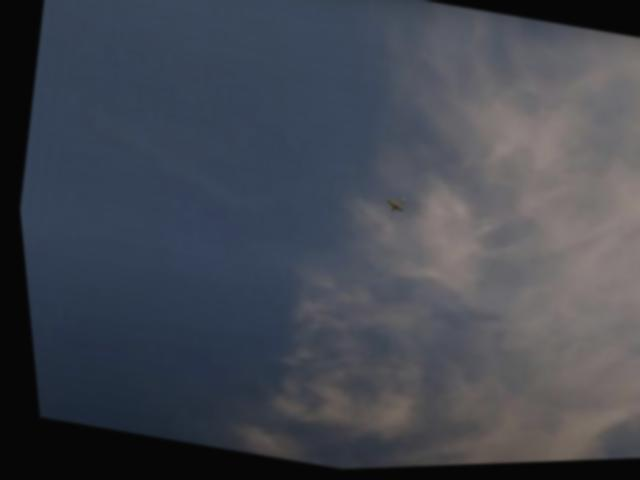iha: (378, 197, 405, 220)
